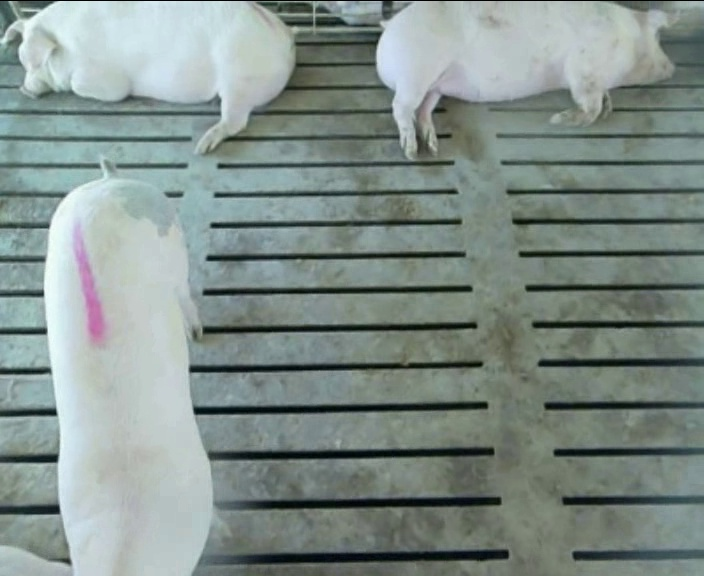pig: (44, 160, 231, 573), (376, 2, 678, 158), (2, 2, 294, 153)
